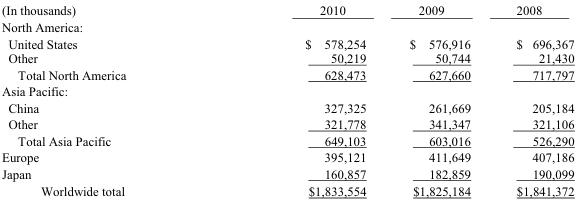table: (0, 0, 573, 199)
table column: (0, 0, 214, 199), (214, 0, 387, 199), (387, 0, 492, 199), (492, 0, 573, 199)
table column header: (0, 0, 573, 18)
table projected row header: (0, 82, 573, 99), (0, 18, 573, 34)
table row: (0, 0, 573, 18), (0, 181, 573, 199), (0, 82, 573, 99), (0, 115, 573, 132), (0, 164, 573, 181), (0, 18, 573, 34), (0, 34, 573, 50), (0, 50, 573, 66), (0, 66, 573, 82), (0, 99, 573, 115), (0, 132, 573, 148), (0, 148, 573, 164)
